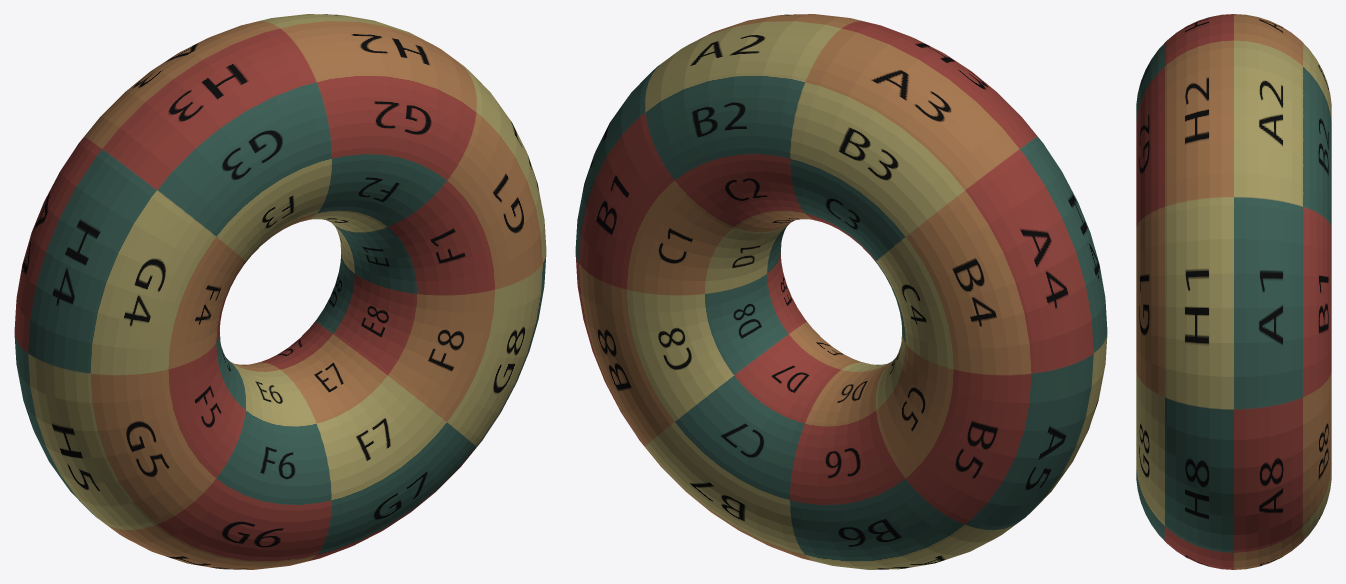
The model's file is texture_torus_R3_r17.glb.
3 renders of one model, left to right at view 1: azimuth 30°, elevation 25°; view 2: azimuth 150°, elevation 25°; view 3: azimuth 270°, elevation 25°, orthographic. The views are drawn at different scales.
Parts seen in each view (by area): view 1: world; view 2: world; view 3: world.
Boxes of the visible parts, left/top/right/bottom form: world: left=14, top=14, right=546, bottom=569; world: left=575, top=14, right=1107, bottom=569; world: left=1136, top=14, right=1331, bottom=569.
Bounding box in the file's own units: 18.53 × 18.5 × 6.52.
Materials: 1 (1 with a texture image).
